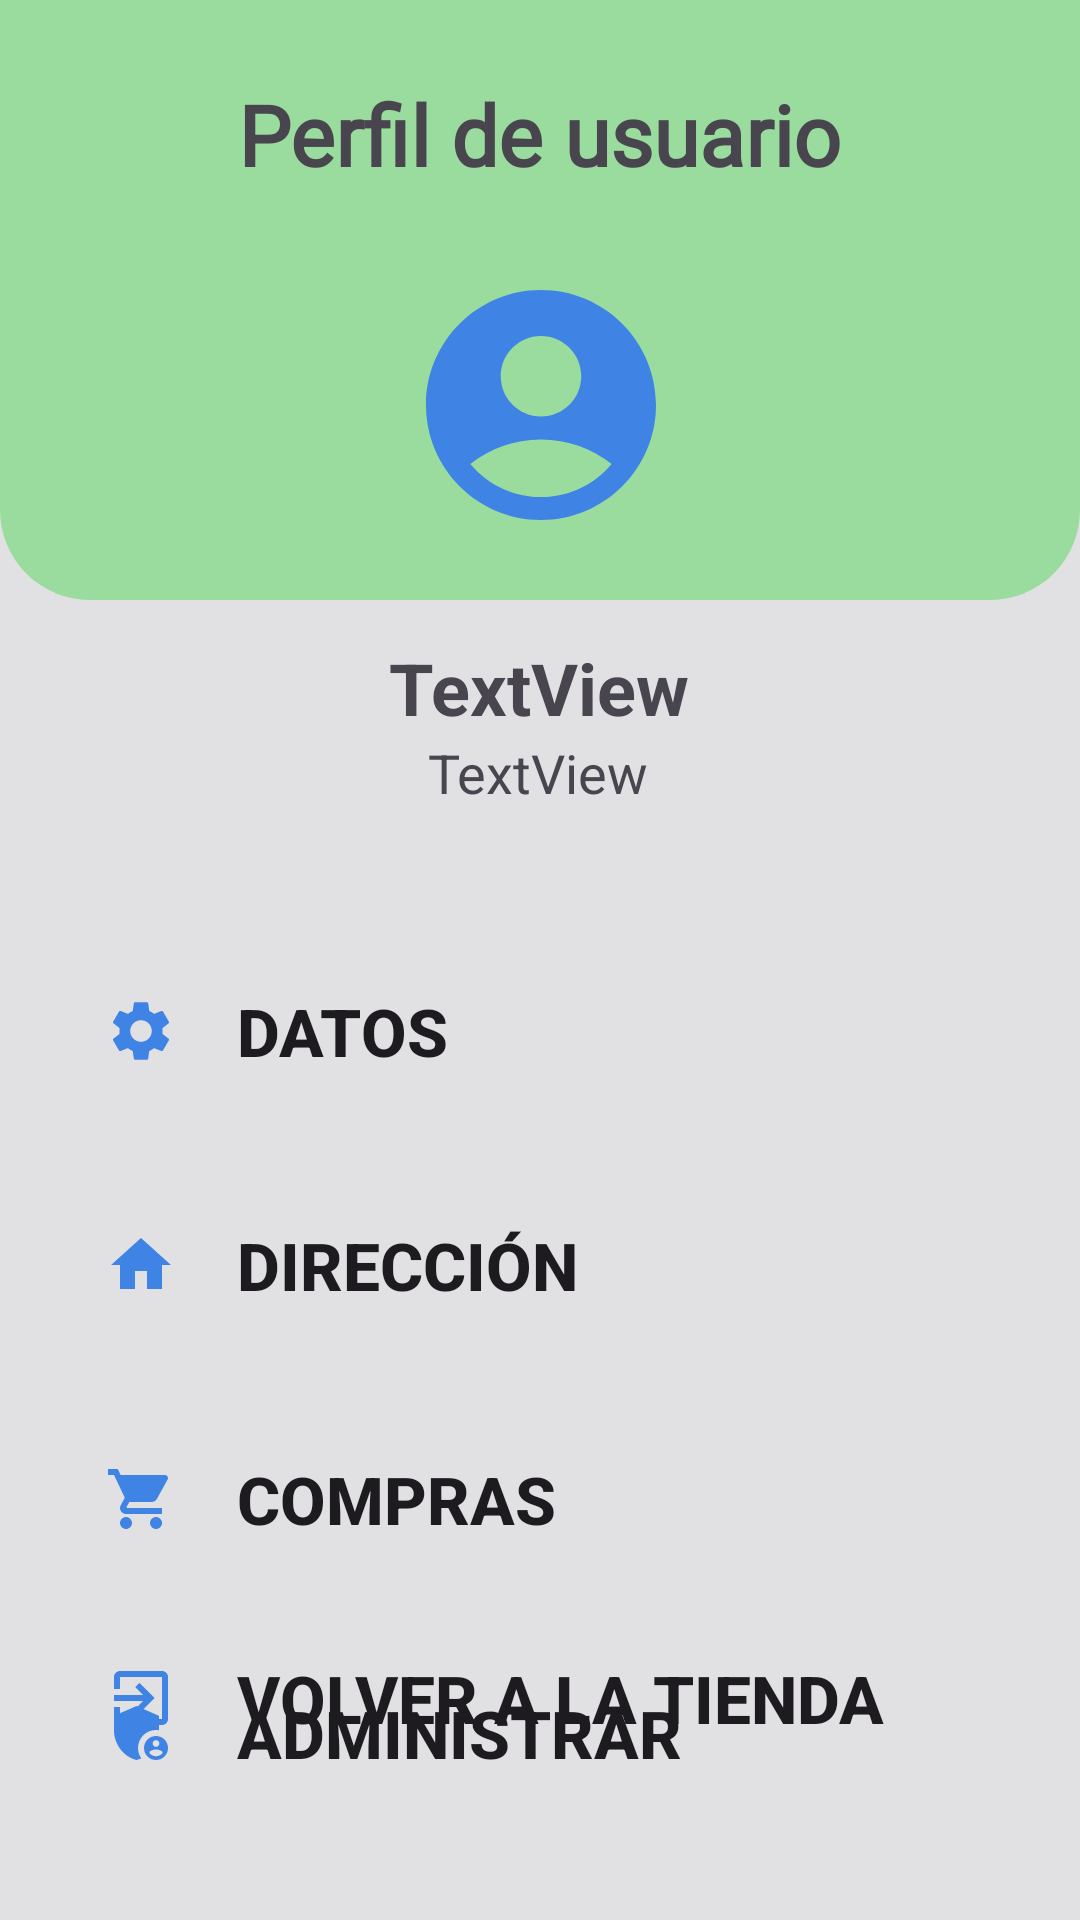

Named icons in this screenshot (1080w x 1920h) and their bounding boxes, (x1, y1, x2, y2):
account circle: (426, 290, 656, 520)
